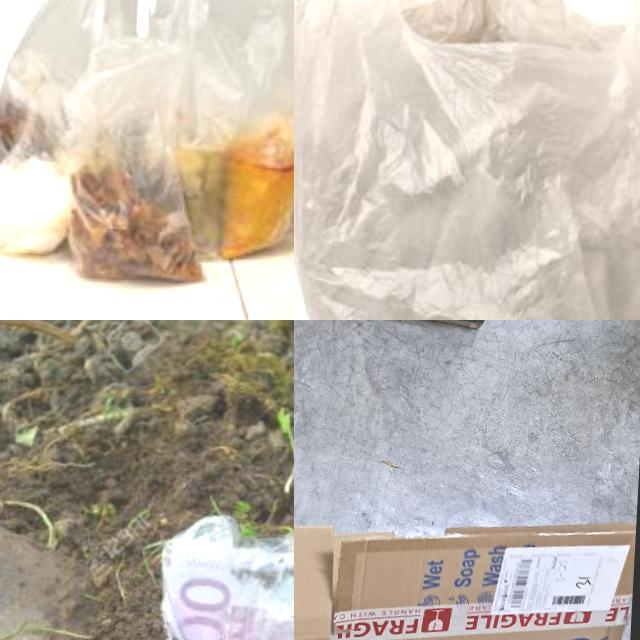papelão: (294, 501, 636, 640)
sacola plástica: (294, 0, 640, 320), (56, 45, 208, 320), (146, 0, 294, 279), (0, 0, 178, 192), (106, 506, 294, 640), (213, 95, 294, 320), (0, 89, 70, 306)
